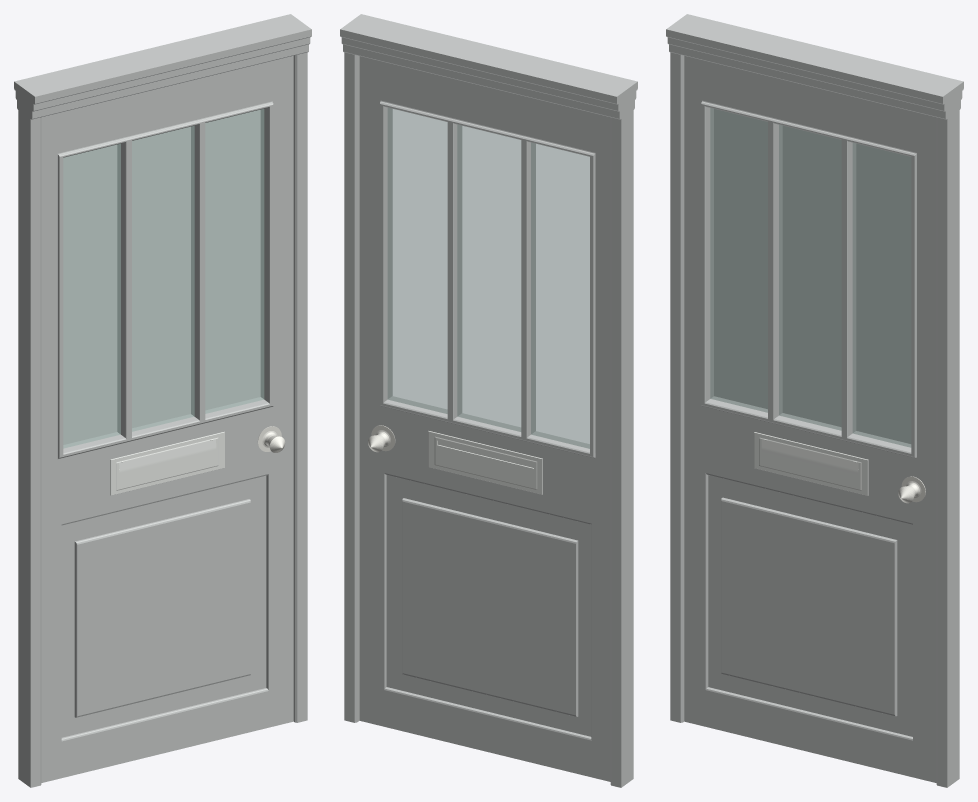
File: door.glb
3 views of the same model, side by side, from view 1: azimuth 30°, elevation 25°; view 2: azimuth 150°, elevation 25°; view 3: azimuth 330°, elevation 25° (orthographic).
Visible parts, largest first — view 1: puerta, cristal, stencil, marco, buzon_base, buzon_tapa, pomo_out; view 2: puerta, cristal, marco, buzon_base.001, pomo_in; view 3: puerta, cristal, stencil, marco, buzon_base, buzon_tapa, pomo_out.
Boxes of the visible parts, x1,y1,x2,y2 form: puerta: (41,56,293,782); cristal: (63,109,264,448); stencil: (63,110,260,444); marco: (14,14,311,787); buzon_base: (110,431,224,495); buzon_tapa: (119,439,216,475); pomo_out: (258,426,285,452); puerta: (359,56,610,781); cristal: (387,107,589,448); marco: (340,14,637,787); buzon_base.001: (428,431,542,494); pomo_in: (368,425,395,452); puerta: (684,56,936,782); cristal: (710,108,911,447); stencil: (714,109,911,443); marco: (666,14,963,787); buzon_base: (754,432,868,495); buzon_tapa: (761,439,858,475); pomo_out: (898,476,925,503).
Size of the model in its own units: 1.1 by 2.63 by 0.2206.
